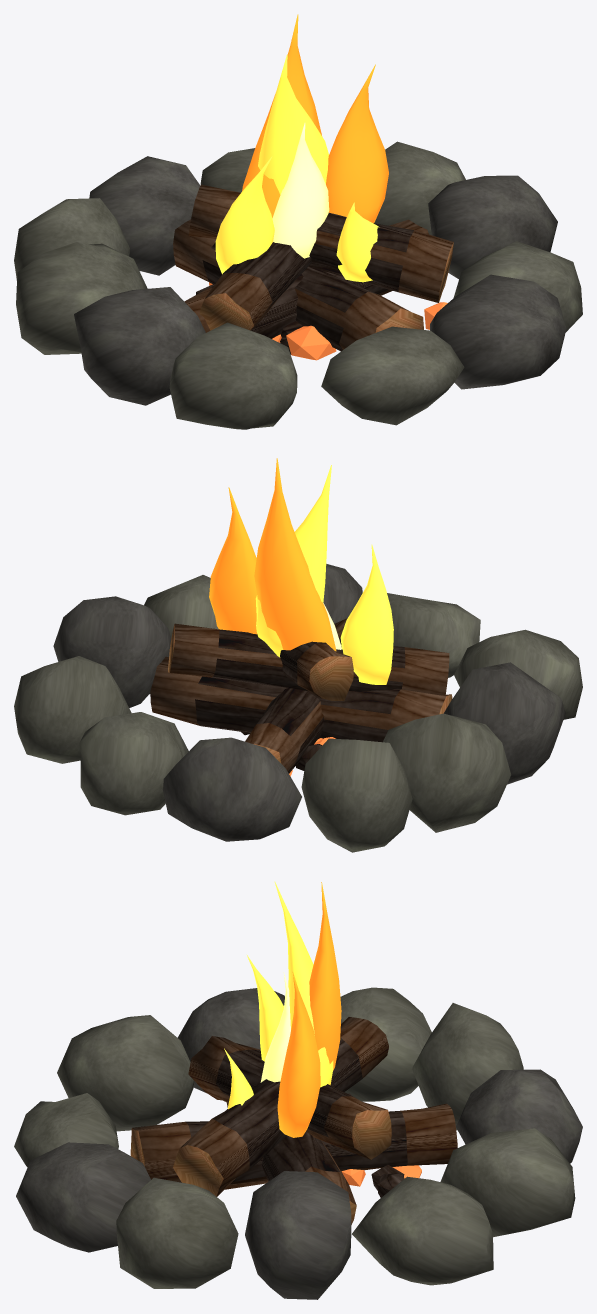
File: campfire.glb
3 renders of one model, top to bottom at view 1: azimuth 30°, elevation 25°; view 2: azimuth 150°, elevation 25°; view 3: azimuth 270°, elevation 25°, orthographic. The views are drawn at different scales.
Visible parts, largest first — view 1: campfire; view 2: campfire; view 3: campfire.
Part boxes in pixels (x1,y1,x2,y2): campfire: (14,14,582,429); campfire: (14,458,582,852); campfire: (14,881,582,1299).
Size of the model in its own units: 0.638 by 0.381 by 0.6103.
9 materials, 5 textured.
